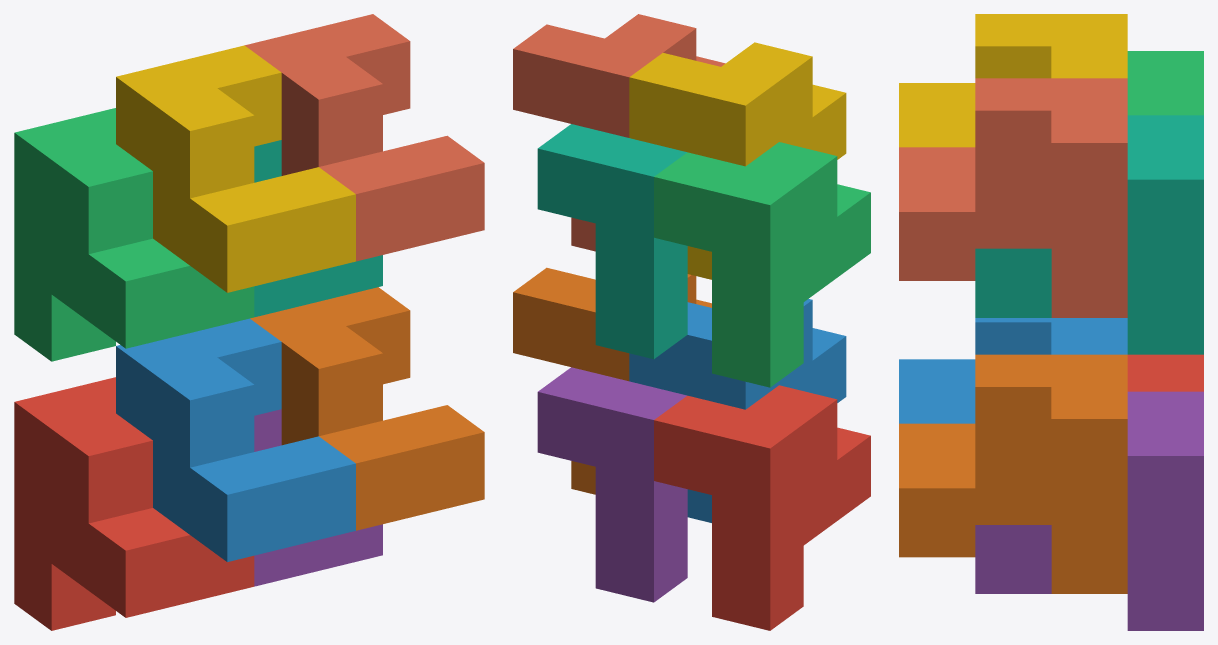
Rendered from tiling.obj.
3 renders of one model, left to right at view 1: azimuth 30°, elevation 25°; view 2: azimuth 150°, elevation 25°; view 3: azimuth 270°, elevation 25°, orthographic. The views are drawn at different scales.
Visible parts, largest first — view 1: copy_1_domain_4, copy_1_domain_2, copy_1_domain_1, copy_1_domain_3, copy_1_domain_8, copy_1_domain_6, copy_1_domain_5, copy_1_domain_7; view 2: copy_1_domain_3, copy_1_domain_1, copy_1_domain_7, copy_1_domain_5, copy_1_domain_4, copy_1_domain_8, copy_1_domain_2, copy_1_domain_6; view 3: copy_1_domain_6, copy_1_domain_8, copy_1_domain_7, copy_1_domain_5, copy_1_domain_4, copy_1_domain_2, copy_1_domain_3, copy_1_domain_1.
Boxes of the visible parts, x1,y1,x2,y2 form: copy_1_domain_4: (116,45,355,292); copy_1_domain_2: (116,318,355,561); copy_1_domain_1: (14,377,254,630); copy_1_domain_3: (14,108,254,361); copy_1_domain_8: (245,14,484,261); copy_1_domain_6: (250,287,484,530); copy_1_domain_5: (254,409,382,586); copy_1_domain_7: (254,140,382,317); copy_1_domain_3: (654,142,870,387); copy_1_domain_1: (654,385,870,630); copy_1_domain_7: (537,124,687,359); copy_1_domain_5: (537,367,687,602); copy_1_domain_4: (629,42,846,279); copy_1_domain_8: (513,14,725,251); copy_1_domain_2: (629,299,846,522); copy_1_domain_6: (513,267,711,494); copy_1_domain_6: (899,354,1127,593); copy_1_domain_8: (899,78,1127,317); copy_1_domain_7: (975,115,1203,354); copy_1_domain_5: (975,391,1203,630); copy_1_domain_4: (899,14,1127,147); copy_1_domain_2: (899,318,1127,423); copy_1_domain_3: (1127,51,1203,115); copy_1_domain_1: (1127,354,1203,391).
Bounding box in the file's own units: 5 × 8 × 4.
